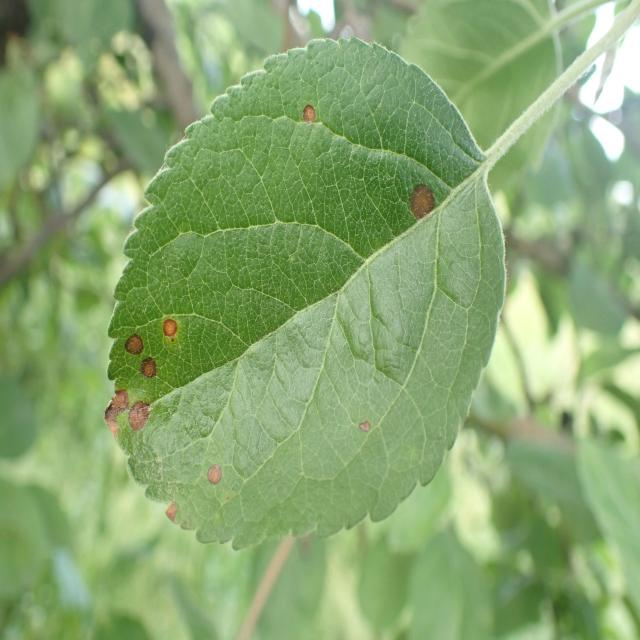Black Rot: (398, 172, 449, 236), (91, 378, 132, 433), (203, 452, 233, 500), (155, 491, 190, 532), (152, 310, 194, 344), (300, 80, 322, 142), (125, 394, 150, 444), (137, 352, 169, 391), (352, 407, 383, 442), (115, 330, 146, 362)
